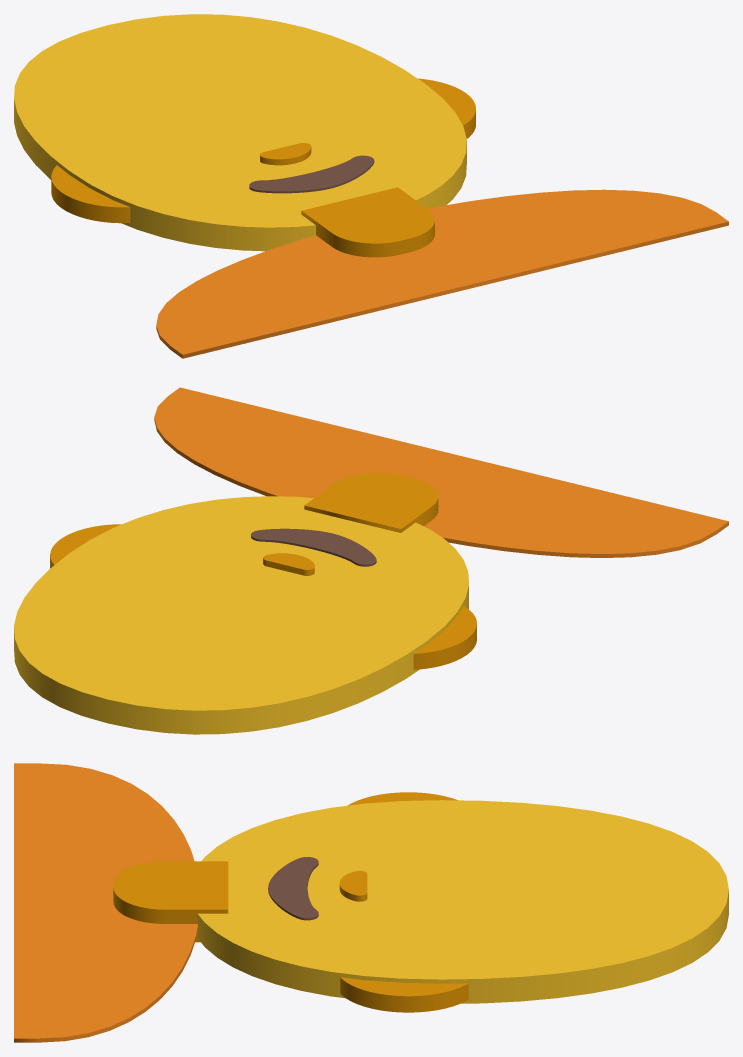
The model's file is emoji_u1f9d1_200d_1f9b2.glb.
3 renders of one model, top to bottom at view 1: azimuth 30°, elevation 25°; view 2: azimuth 150°, elevation 25°; view 3: azimuth 270°, elevation 25°, orthographic. The views are drawn at different scales.
Parts seen in each view (by area): view 1: emoji_u1f9d1_200d_1f9b2; view 2: emoji_u1f9d1_200d_1f9b2; view 3: emoji_u1f9d1_200d_1f9b2.
Part boxes in pixels (x1,y1,x2,y2): emoji_u1f9d1_200d_1f9b2: (14, 14, 728, 358); emoji_u1f9d1_200d_1f9b2: (14, 387, 728, 734); emoji_u1f9d1_200d_1f9b2: (14, 763, 728, 1042).
Size of the model in its own units: 0.0289 by 0.0018 by 0.0317.
